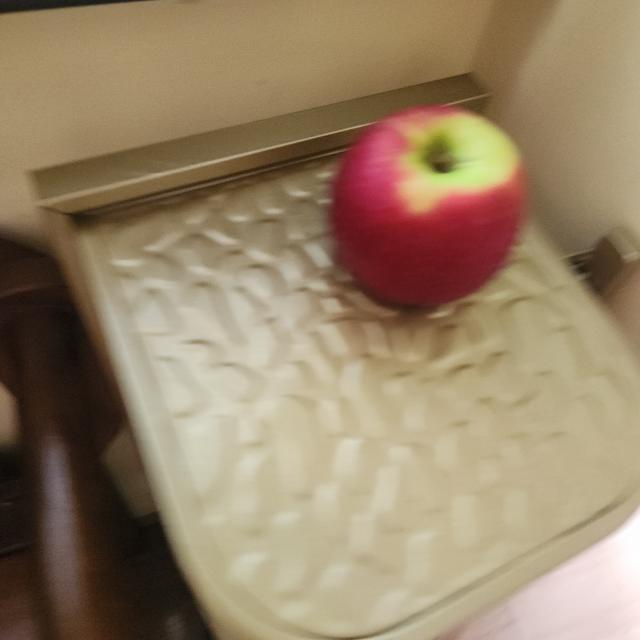apple: (321, 98, 533, 323)
